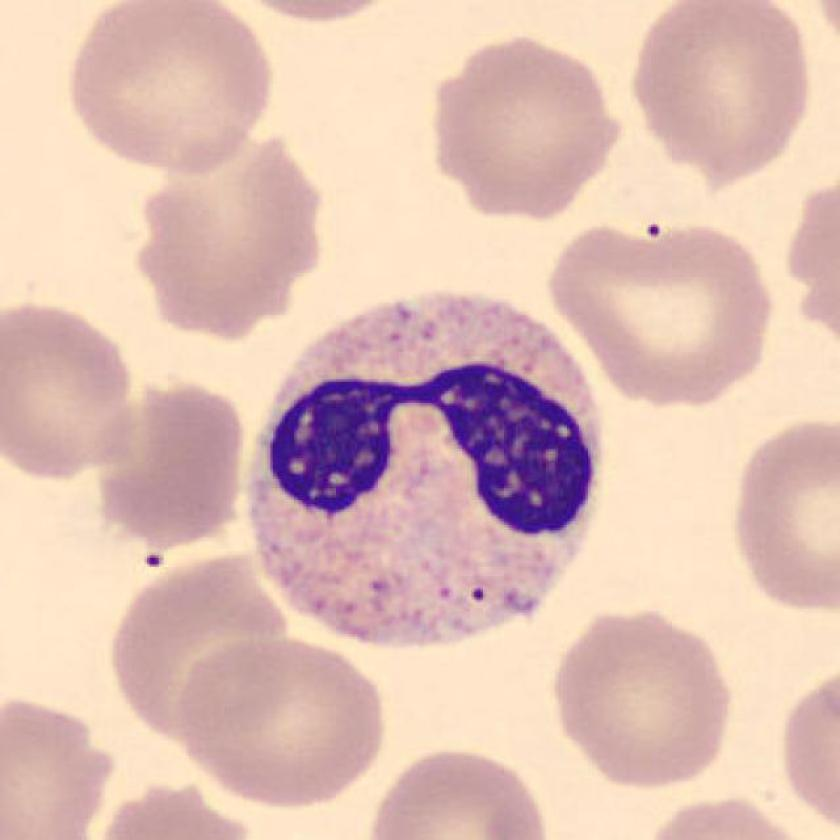neutrophil: (244, 291, 599, 648)
